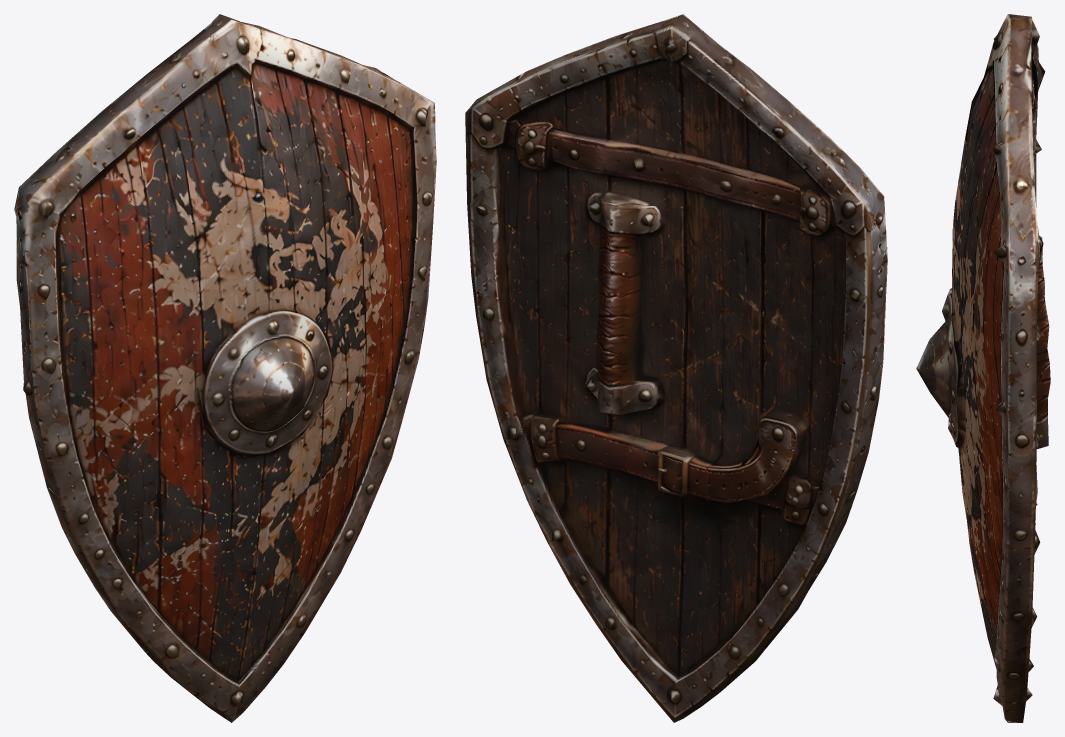
Rendered from escudo2.glb.
3 views of the same model, side by side, from view 1: azimuth 30°, elevation 25°; view 2: azimuth 150°, elevation 25°; view 3: azimuth 270°, elevation 25° (orthographic).
Parts seen in each view (by area): view 1: tripo_node_32d2c8d0-2815-419c-a84b-2f592a416718; view 2: tripo_node_32d2c8d0-2815-419c-a84b-2f592a416718; view 3: tripo_node_32d2c8d0-2815-419c-a84b-2f592a416718.
Boxes of the visible parts, <box> form: tripo_node_32d2c8d0-2815-419c-a84b-2f592a416718: <box>14,14,436,722</box>; tripo_node_32d2c8d0-2815-419c-a84b-2f592a416718: <box>465,14,887,722</box>; tripo_node_32d2c8d0-2815-419c-a84b-2f592a416718: <box>916,14,1050,722</box>.
Size of the model in its own units: 0.6115 by 1 by 0.1718.
Materials: 1 (1 with a texture image).
